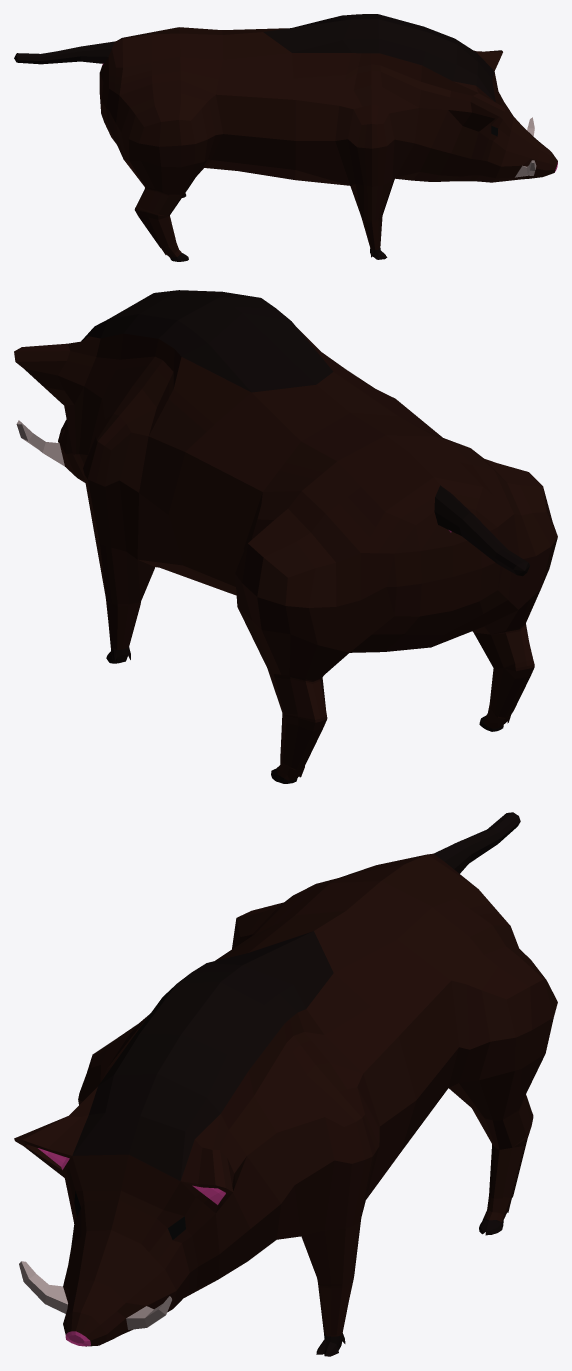
Rendered from 06_wild_boar.obj.
The picture shows the model from 3 angles, top to bottom: view 1: azimuth 30°, elevation 25°; view 2: azimuth 150°, elevation 25°; view 3: azimuth 270°, elevation 25°; orthographic projection. The views are drawn at different scales.
Visible parts, largest first — view 1: jabali_Material_#54_0, jabali_Material_#60_0, jabali_Material_#55_0; view 2: jabali_Material_#54_0, jabali_Material_#60_0, jabali_Material_#55_0; view 3: jabali_Material_#54_0, jabali_Material_#60_0, jabali_Material_#55_0, jabali_Material_#57_0.
Part boxes in pixels (x1,y1,x2,y2): jabali_Material_#54_0: (99, 27, 557, 257); jabali_Material_#60_0: (14, 14, 495, 261); jabali_Material_#55_0: (515, 117, 536, 177); jabali_Material_#54_0: (14, 328, 557, 780); jabali_Material_#60_0: (81, 290, 529, 783); jabali_Material_#55_0: (16, 420, 64, 466); jabali_Material_#54_0: (14, 853, 557, 1346); jabali_Material_#60_0: (72, 812, 520, 1356); jabali_Material_#55_0: (19, 1261, 171, 1329); jabali_Material_#57_0: (38, 1148, 225, 1346).
Bounding box in the file's own units: 3.75 × 1.79 × 2.55.
